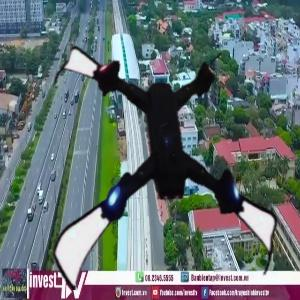drone: (44, 46, 297, 299)
